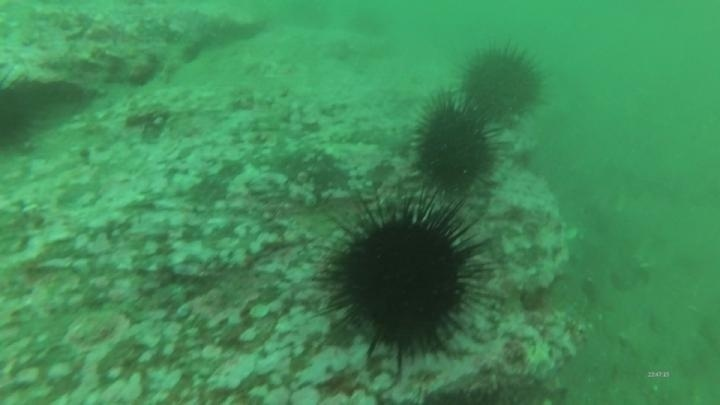echinus: (315, 193, 498, 368), (407, 91, 503, 201), (455, 40, 550, 127), (0, 76, 40, 157)
